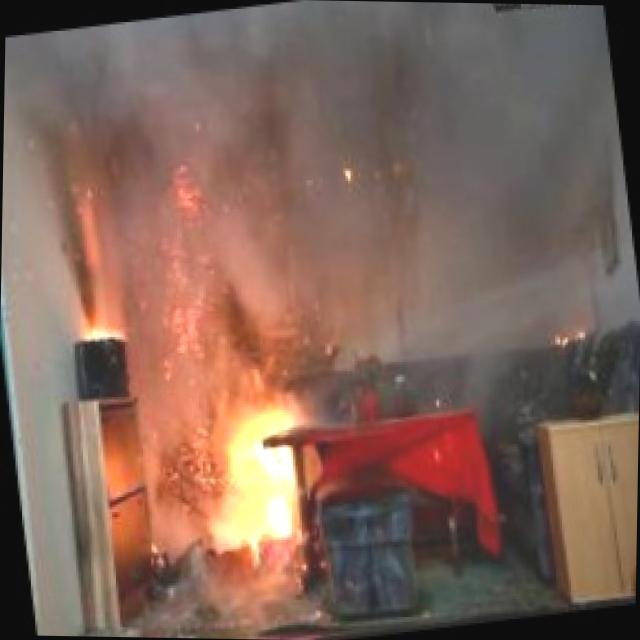fire: (180, 370, 342, 580)
